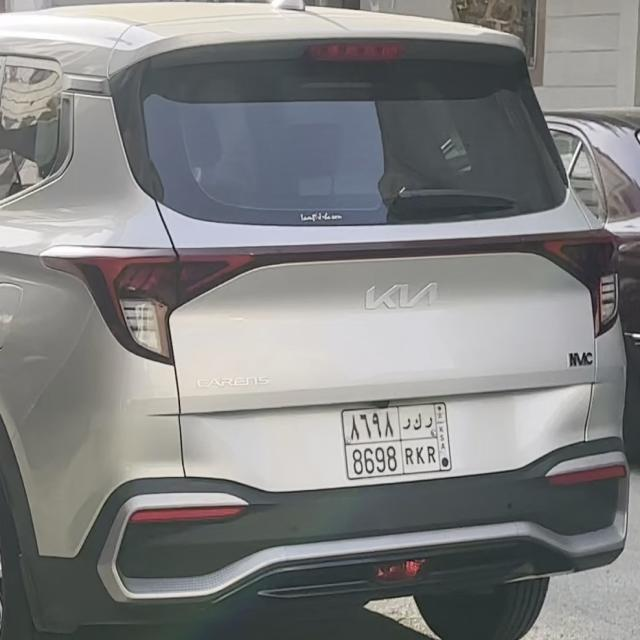Car-plate: (333, 396, 460, 486)
